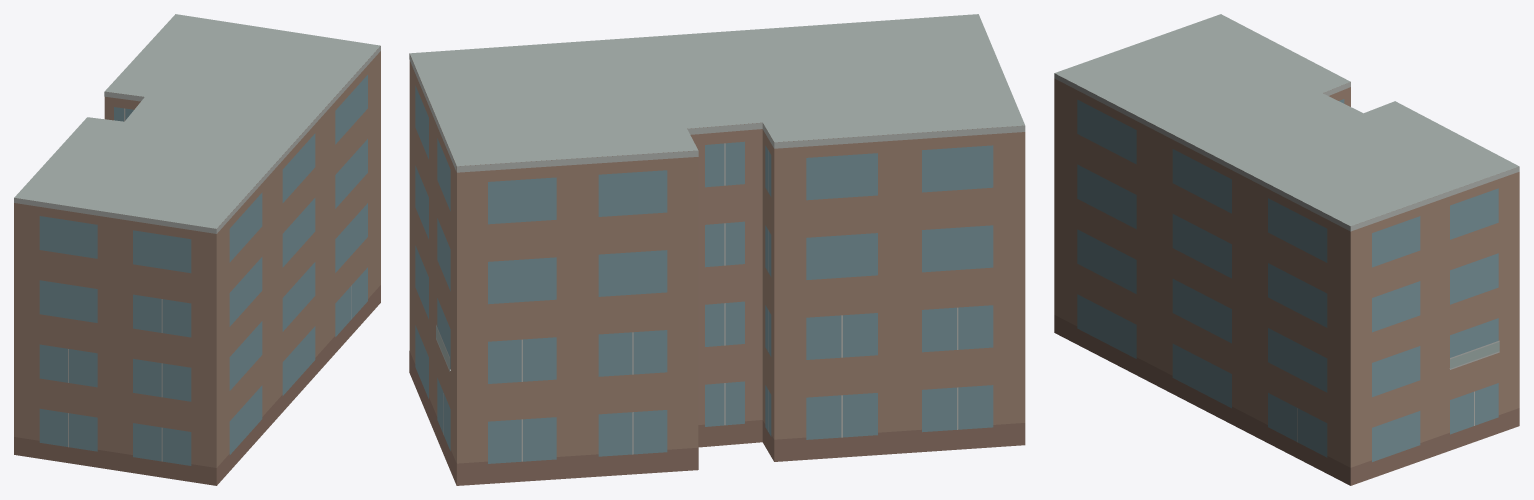
Rendered from survey-upis-32822564.glb.
3 renders of one model, left to right at view 1: azimuth 30°, elevation 25°; view 2: azimuth 150°, elevation 25°; view 3: azimuth 270°, elevation 25°, orthographic. The views are drawn at different scales.
Parts seen in each view (by area): view 1: survey-upis-32822564.tmp; view 2: survey-upis-32822564.tmp; view 3: survey-upis-32822564.tmp.
Boxes of the visible parts, left/top/right/bottom form: survey-upis-32822564.tmp: left=14, top=14, right=380, bottom=485; survey-upis-32822564.tmp: left=409, top=14, right=1025, bottom=485; survey-upis-32822564.tmp: left=1054, top=14, right=1519, bottom=485.
Size of the model in its own units: 21.44 by 12.21 by 19.86.
